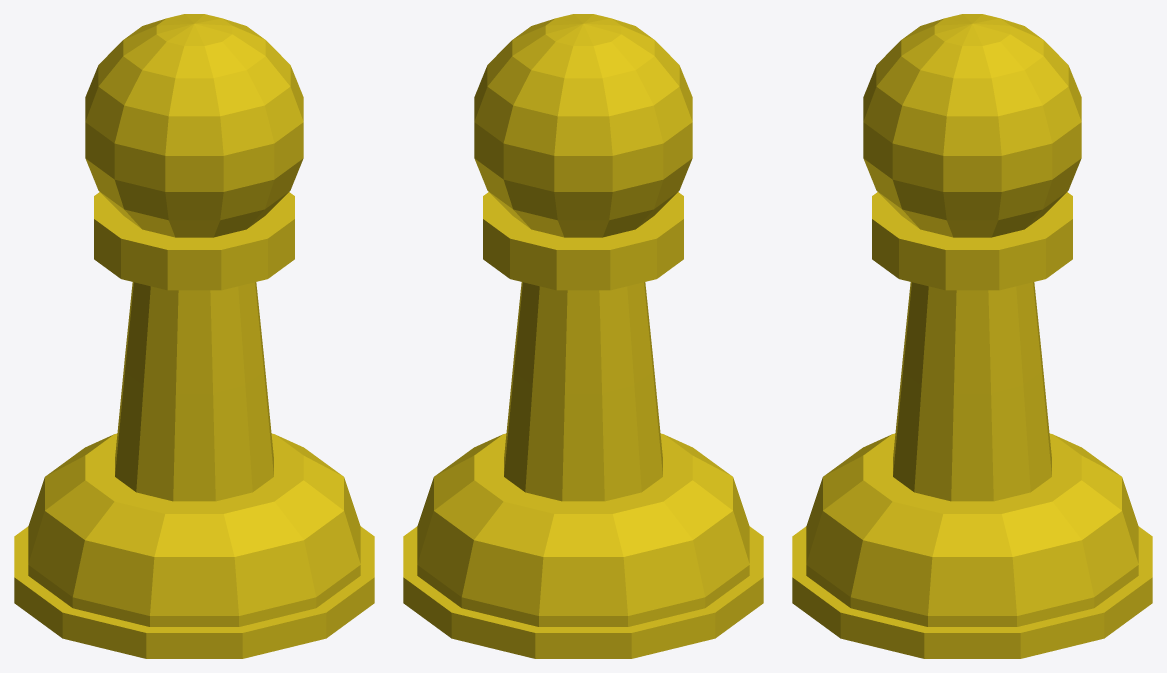
File: yelow_pown.glb
The picture shows the model from 3 angles, left to right: view 1: azimuth 30°, elevation 25°; view 2: azimuth 150°, elevation 25°; view 3: azimuth 270°, elevation 25°; orthographic projection.
Parts seen in each view (by area): view 1: bdbbe5d3-7e8a-4ab4-ad6c-9a819e138e8c; view 2: bdbbe5d3-7e8a-4ab4-ad6c-9a819e138e8c; view 3: bdbbe5d3-7e8a-4ab4-ad6c-9a819e138e8c.
Boxes of the visible parts, x1,y1,x2,y2 form: bdbbe5d3-7e8a-4ab4-ad6c-9a819e138e8c: (14,14,374,658); bdbbe5d3-7e8a-4ab4-ad6c-9a819e138e8c: (403,14,763,658); bdbbe5d3-7e8a-4ab4-ad6c-9a819e138e8c: (792,14,1152,658).
Bounding box in the file's own units: 0.1256 × 0.215 × 0.1256.
